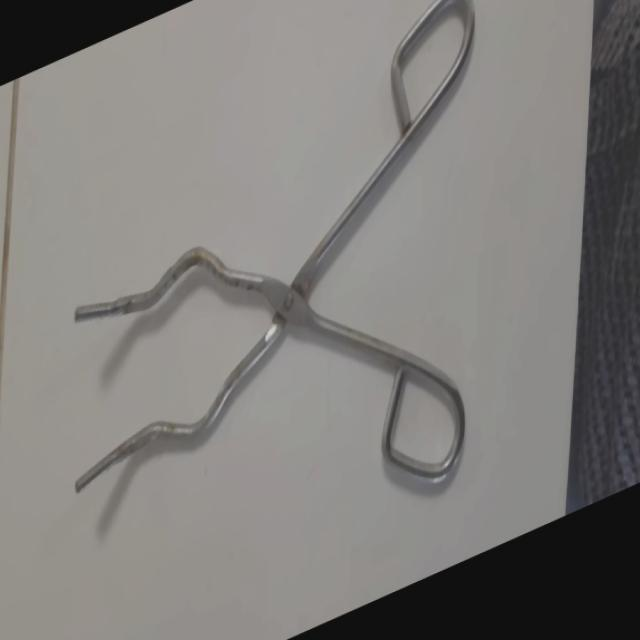Tongue: (50, 0, 499, 640)
